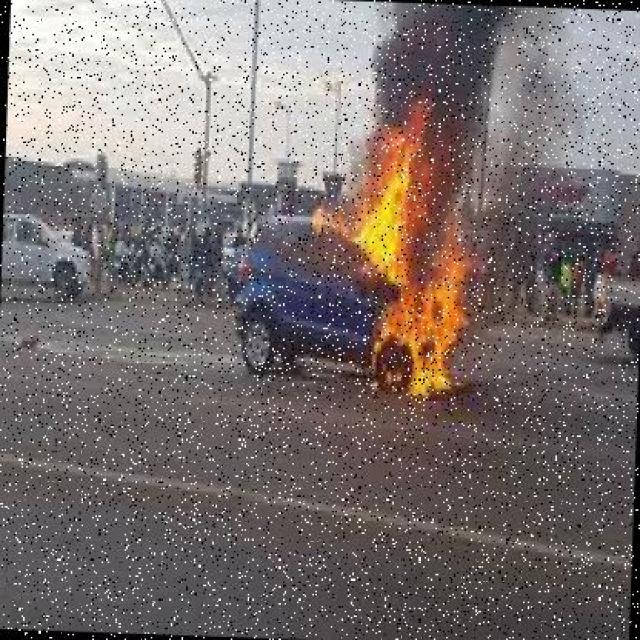fire: (303, 98, 482, 410)
